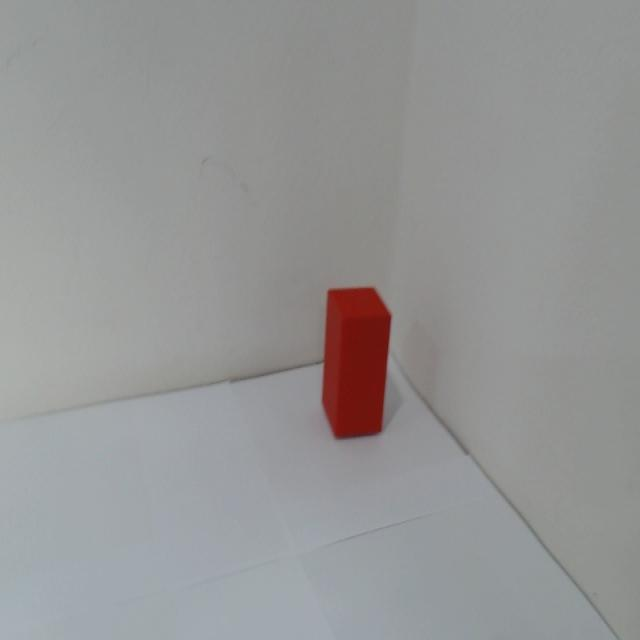cube: (324, 279, 392, 446)
